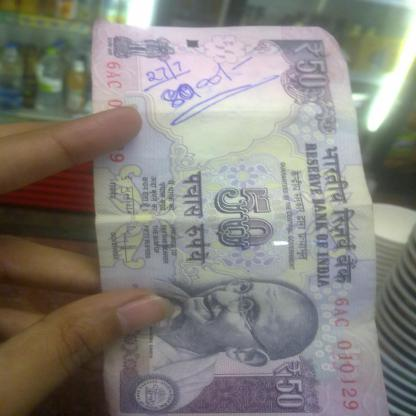Old50Front: (91, 25, 392, 416)
